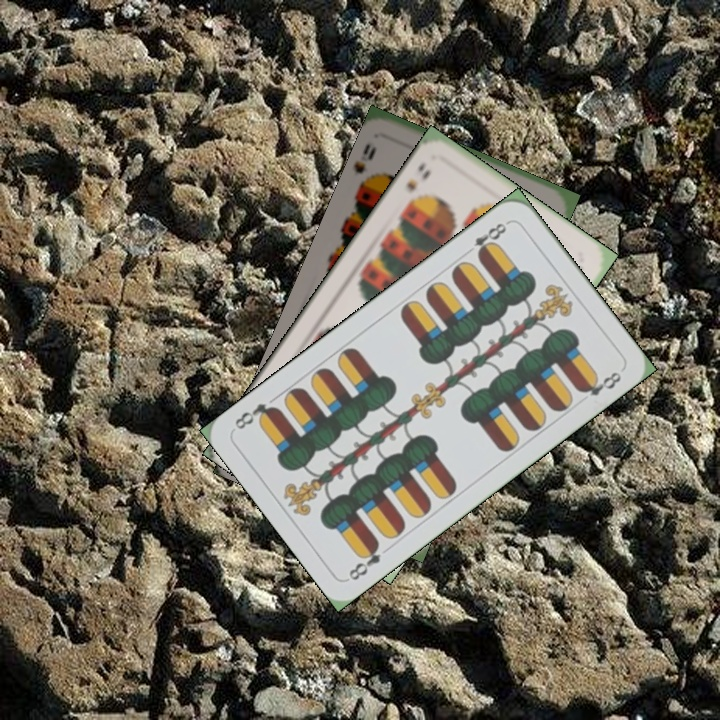E8: (461, 217, 512, 260), (344, 537, 384, 583)
S9: (402, 157, 434, 197), (354, 143, 379, 191)
